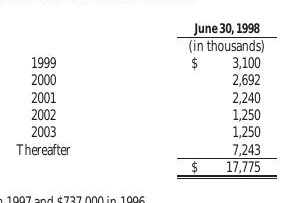table: (0, 0, 296, 203)
